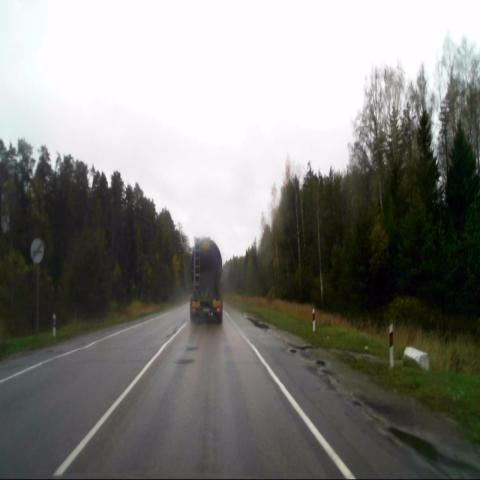3_21: (29, 236, 44, 266)
